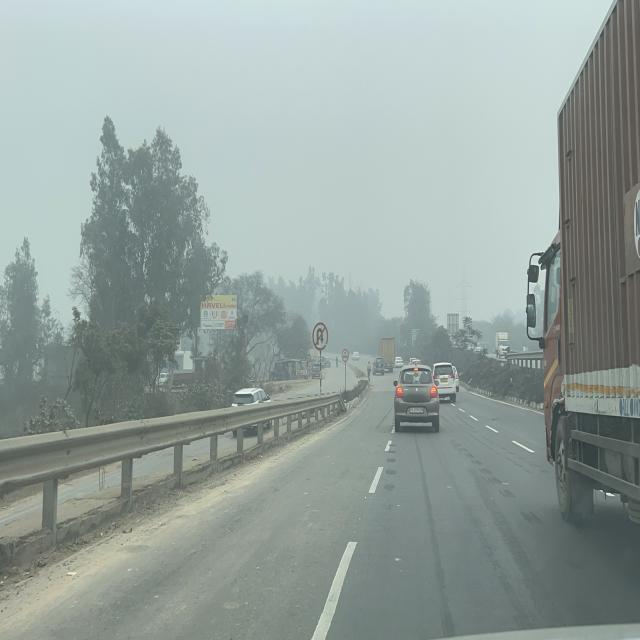NO_PARKING: (341, 349, 349, 362)
U_TURN_PROHIBITED: (312, 322, 329, 351)
